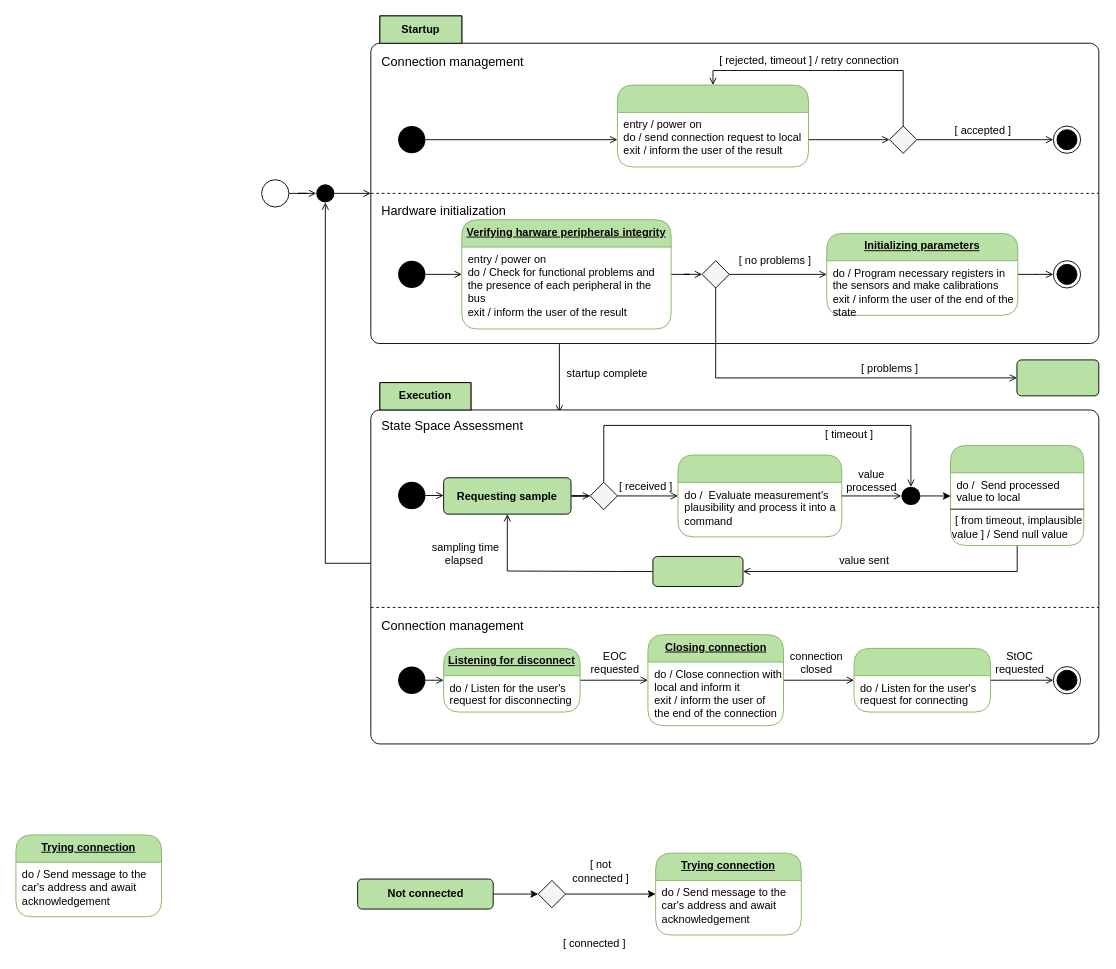
This 1116x969 diagram has some shape labels left out. The box of each missing label's shape, as (x1, y1, x2, y2) in pixels:
Error: (1016, 359, 1099, 396)
Idling: (652, 556, 743, 586)
Listening for connect: (853, 647, 991, 712)
Processing value: (677, 454, 842, 537)
Requesting connection: (617, 84, 809, 167)
Sending value to local: (950, 445, 1084, 546)
